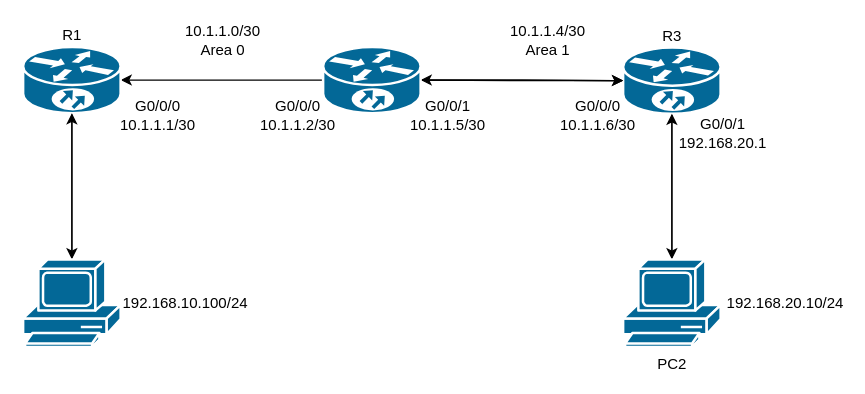
This 865x394 diagram has some shape labels left out. The shapes that lost their labels are listed below. From the top down, each one's centre as x and y in pixels, then its label:
pixel 371 79: R2
pixel 71 303: PC1
